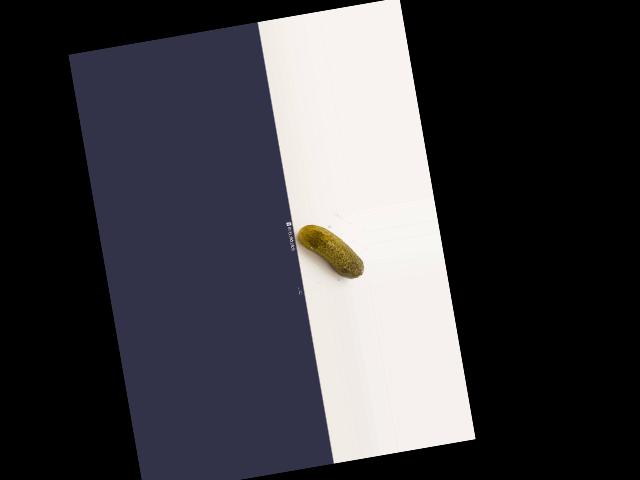cucumber: (296, 217, 365, 287)
